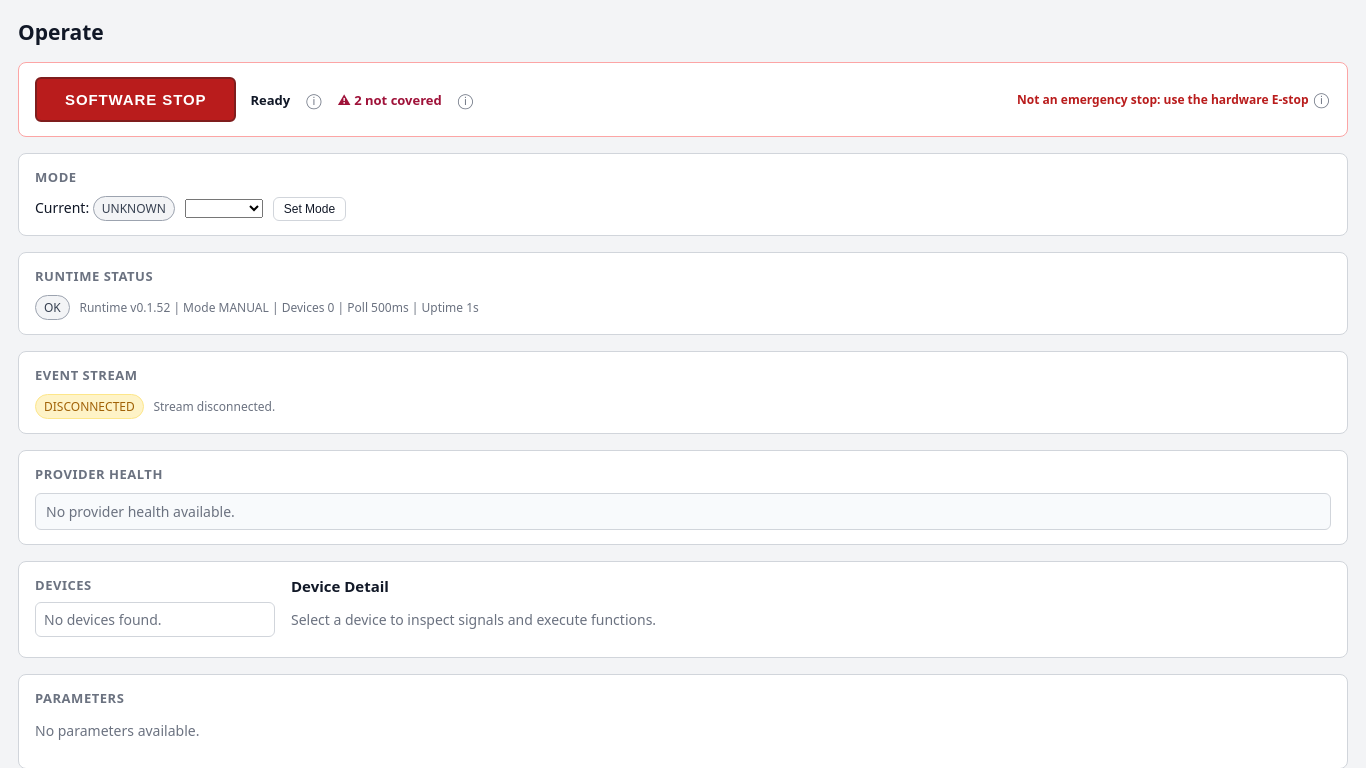
Scenario: Operate.svelte — the software stop card is one row (#613) › names uncovered functions in a chip, with the count as the software stop, not the e-stop
Expected: the text with test id "estop-coverage" reads "⚠ 2 not covered", [338,90,442,108]
Click the button named "About uncovered functions" at (465, 100), box [456,92,475,107]
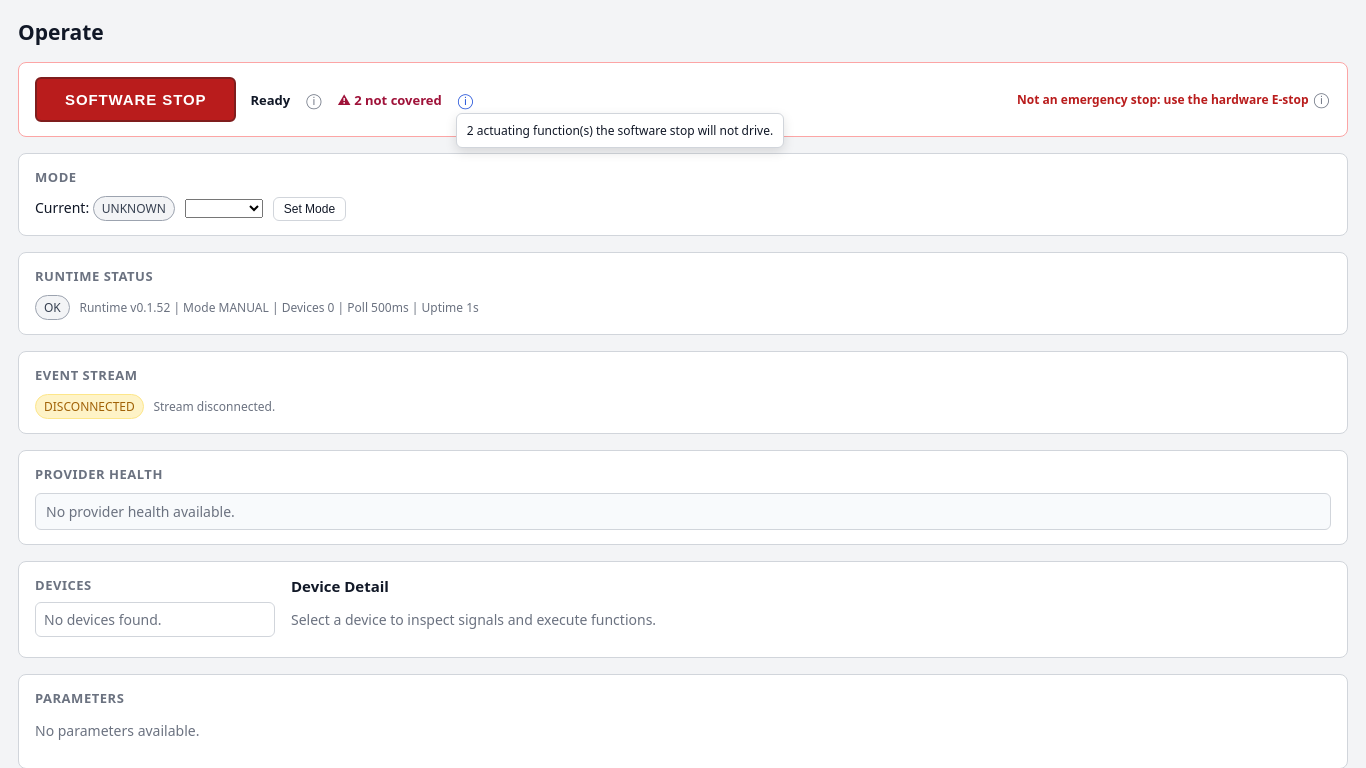
Expected: the button "SOFTWARE STOP" does not show "e-stop"
Now the text "2 actuating function(s) the software stop will not drive." is shown, box [456,113,784,148]
